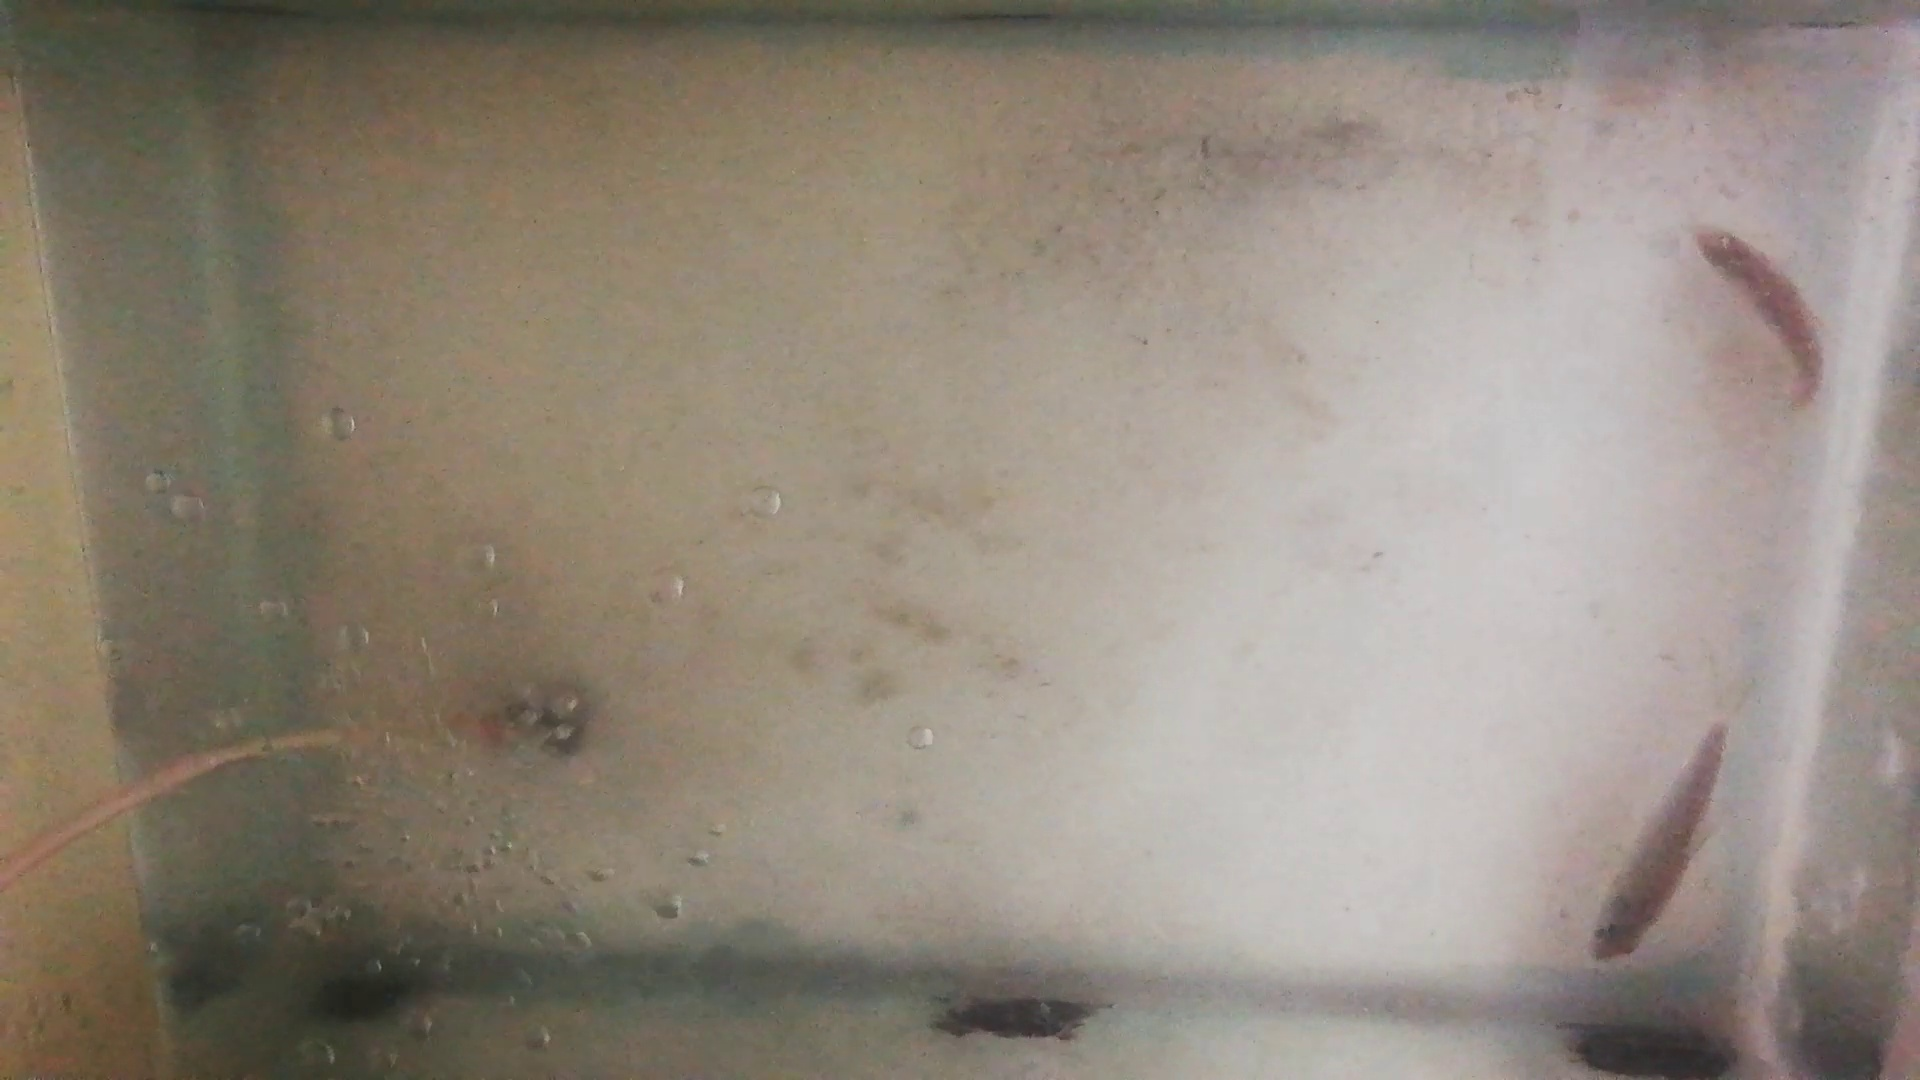fish: (1582, 721, 1731, 959), (1691, 223, 1828, 411)
